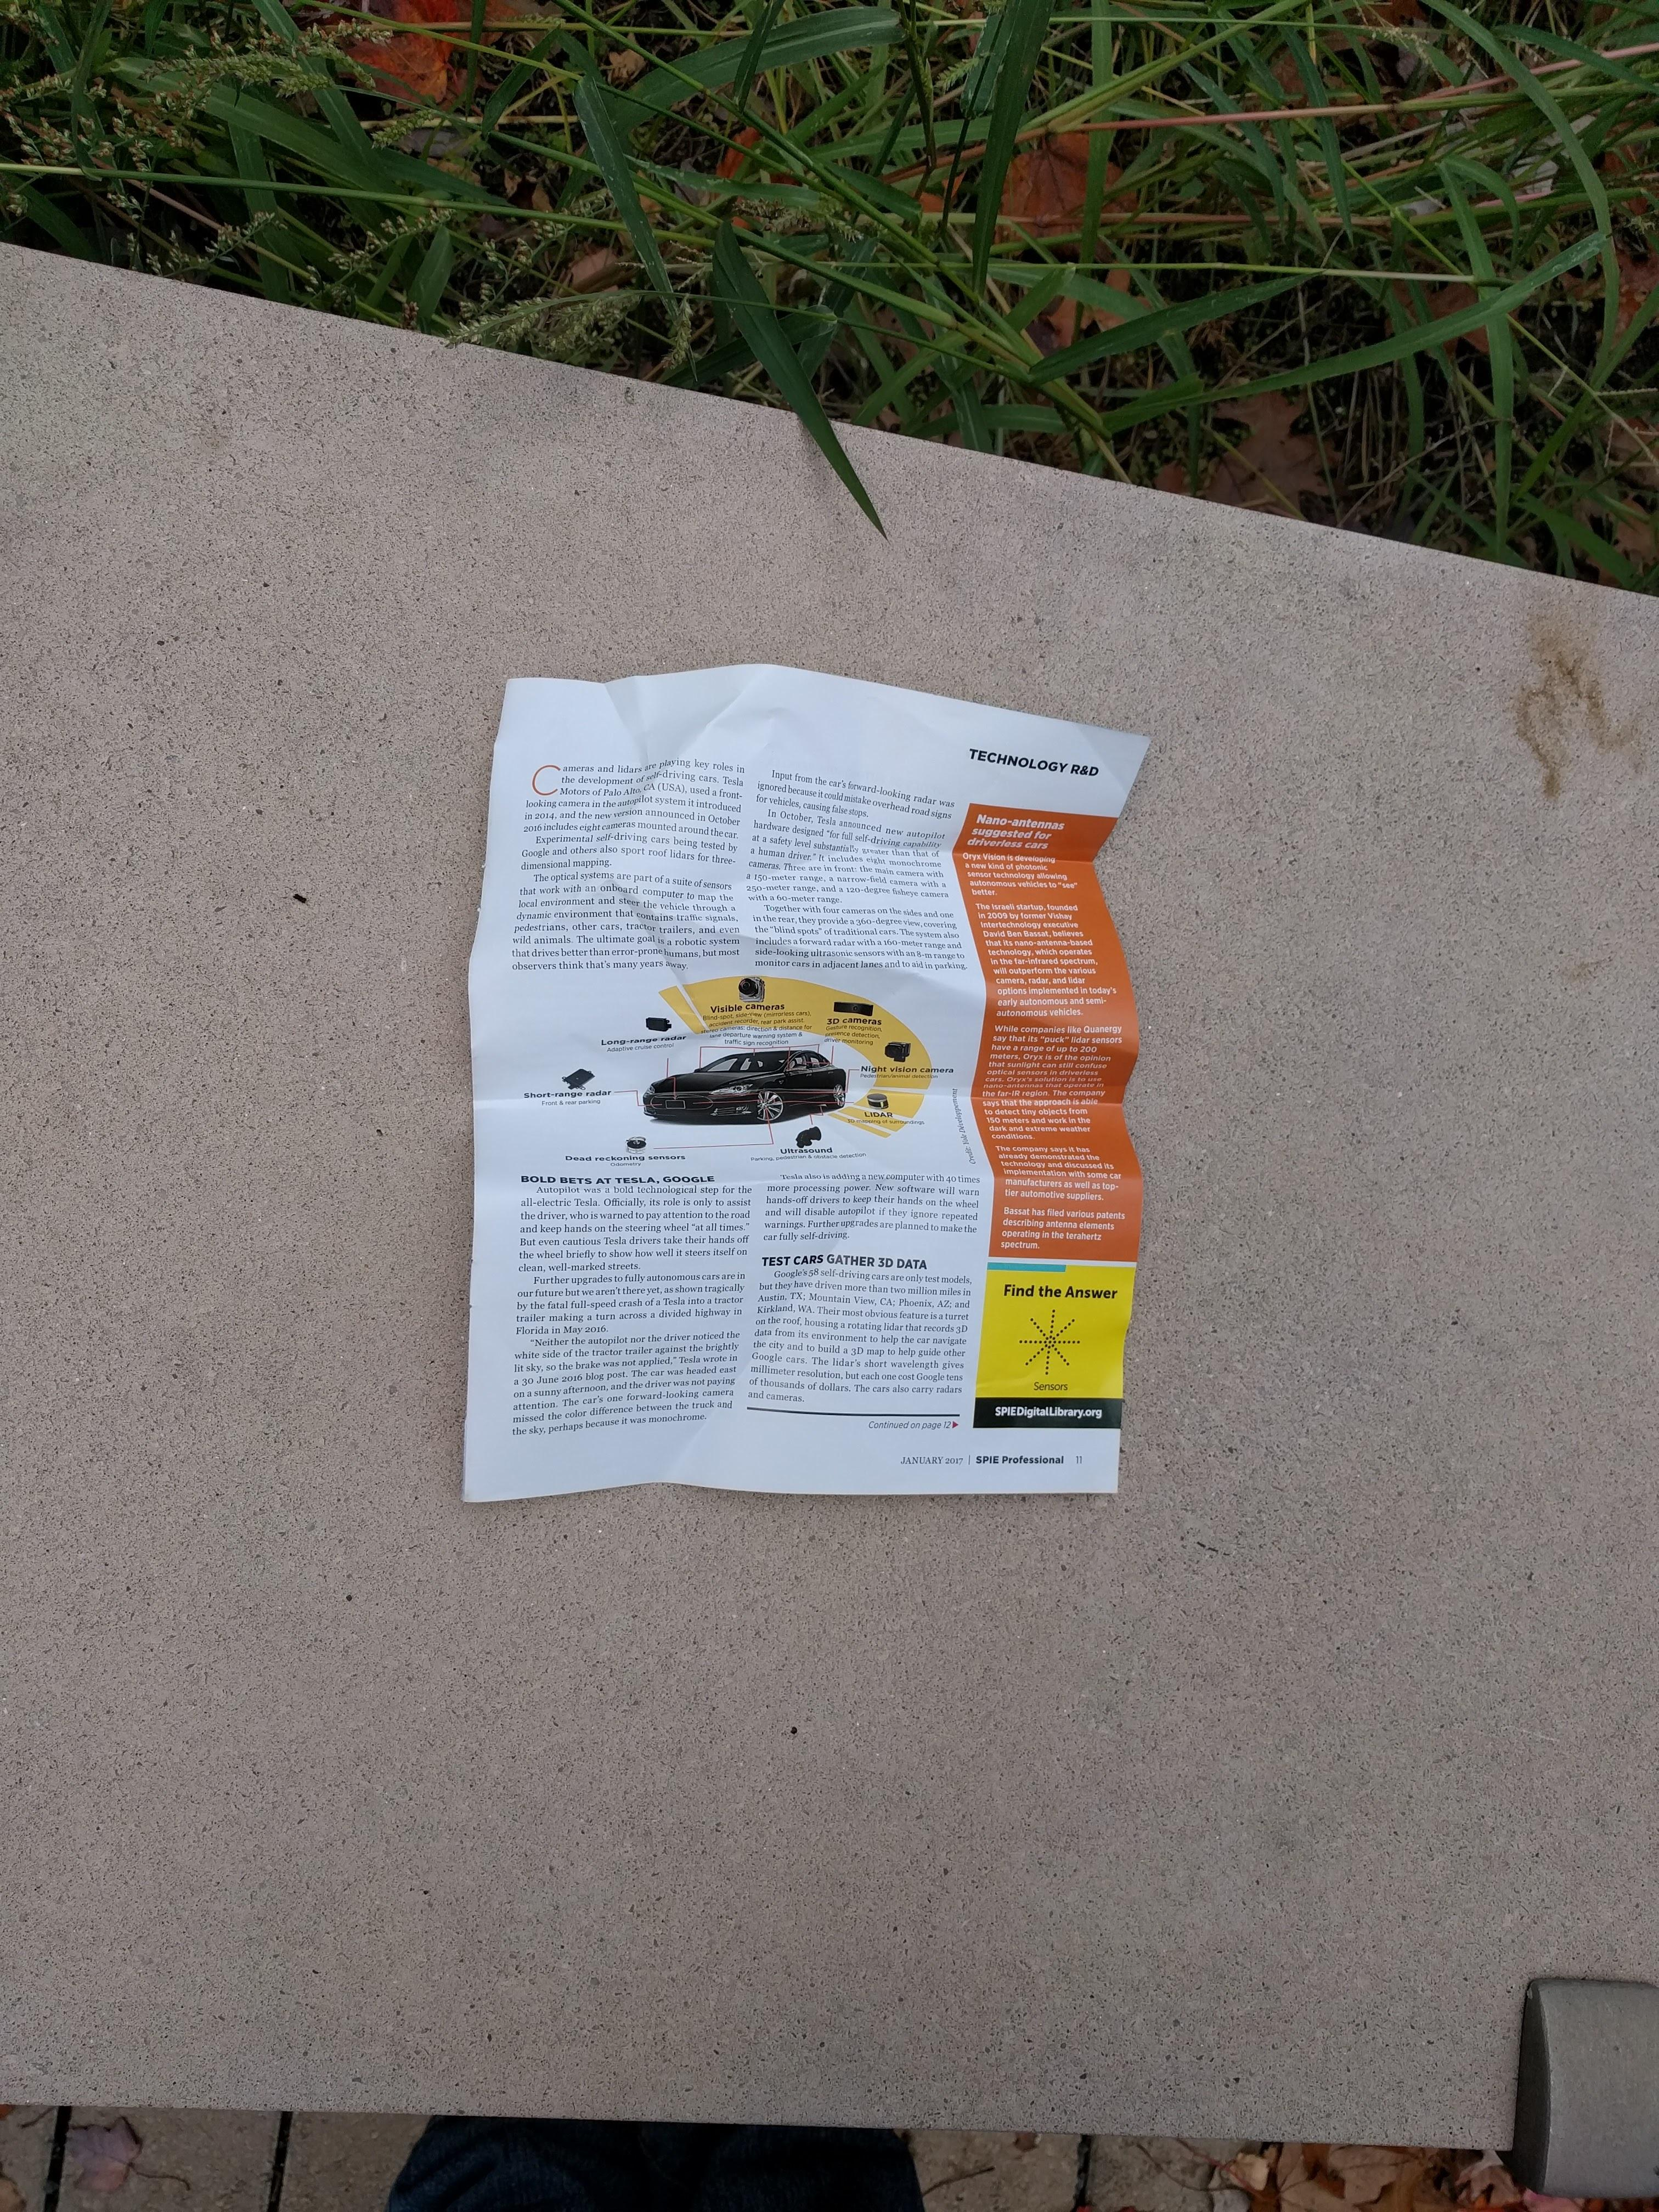paper: (291, 435, 1345, 1787)
